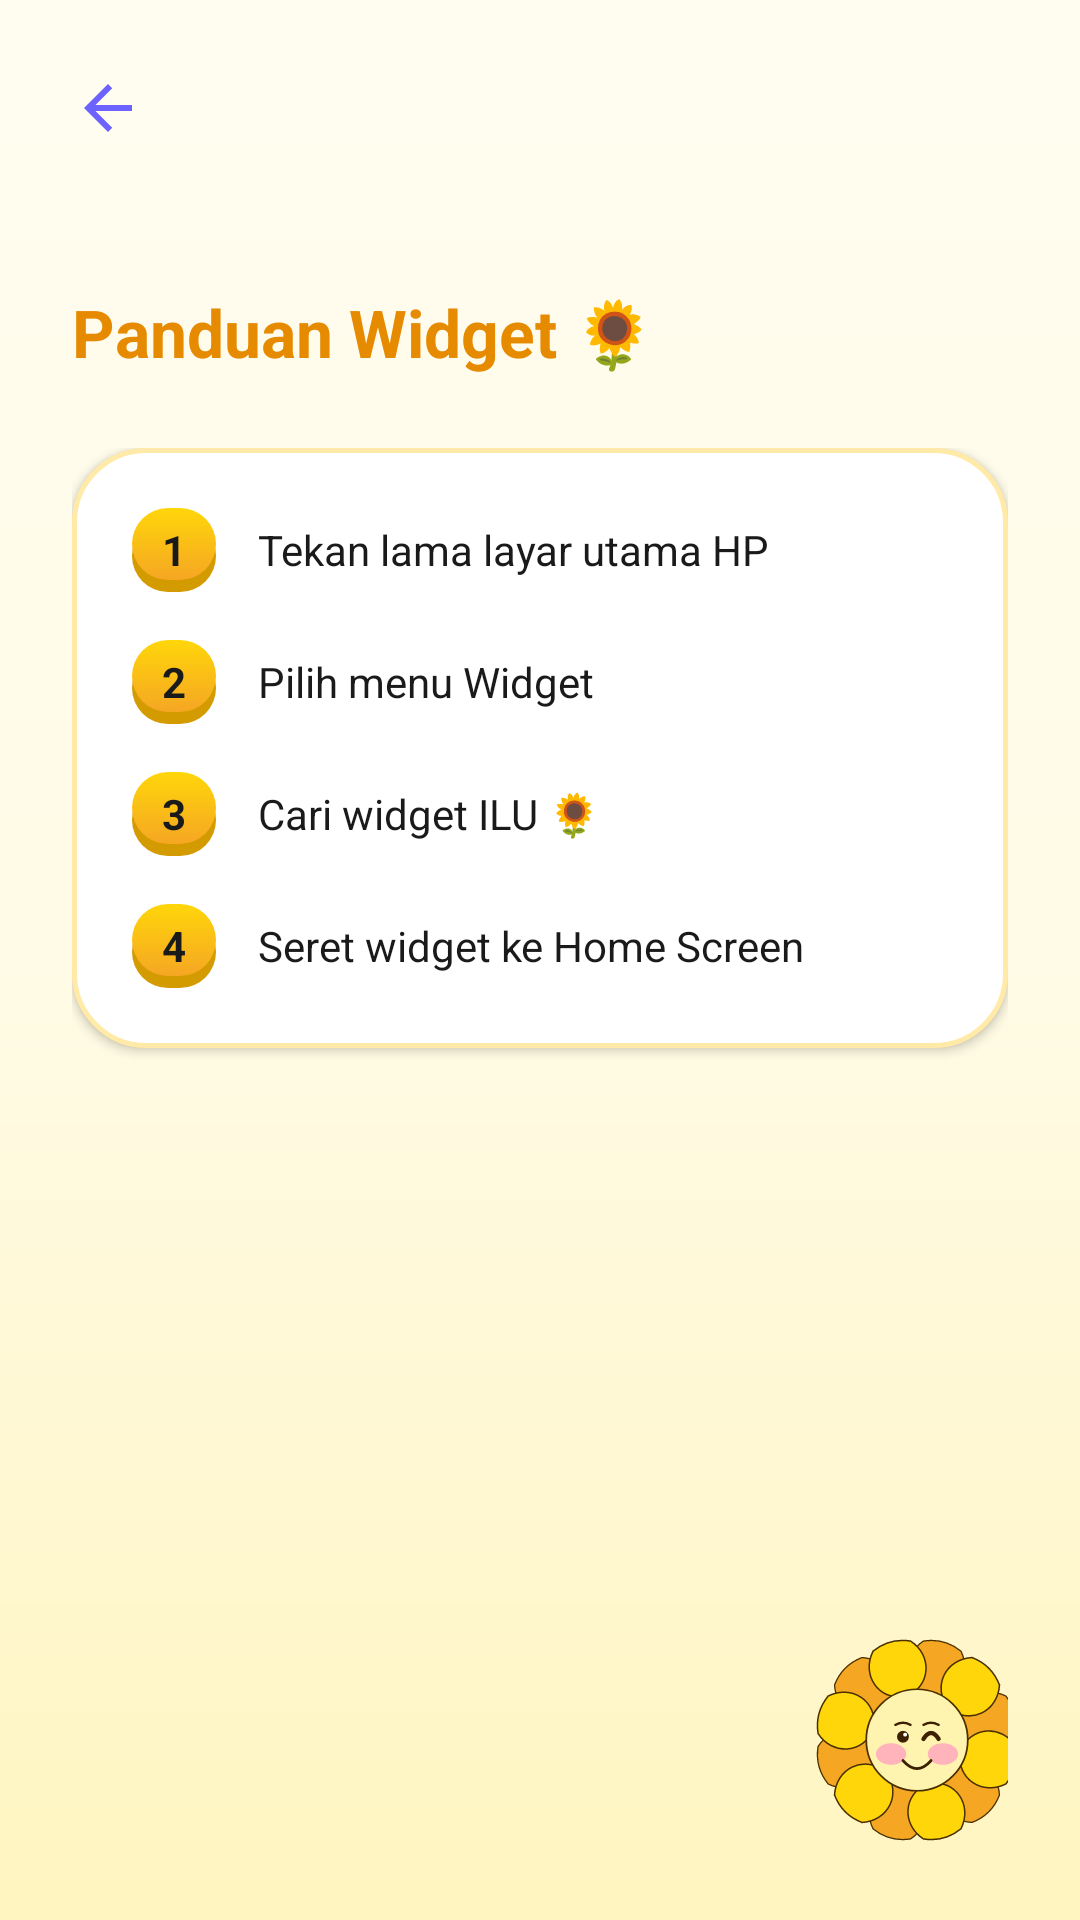

Icon click points for this 1080x1920 phone screenshot, format (x,y):
Kembali: (108,108)
Mascot Cheerful: (912,1740)
